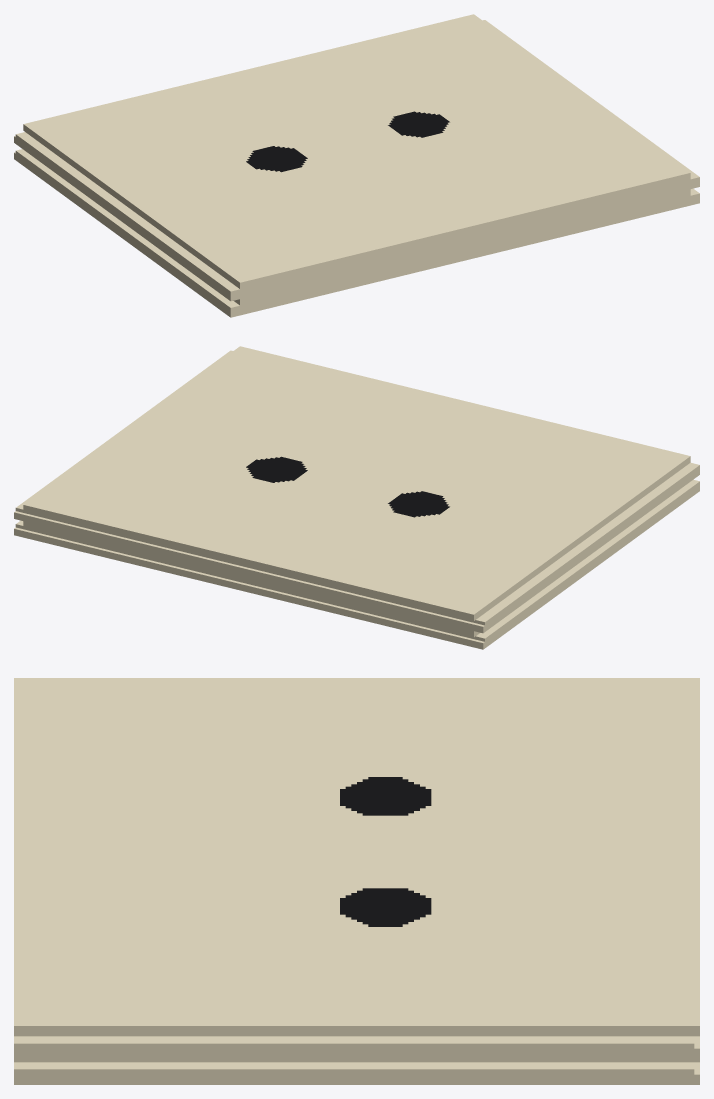
Rendered from ghost_robe_sheet.glb.
The picture shows the model from 3 angles, top to bottom: view 1: azimuth 30°, elevation 25°; view 2: azimuth 150°, elevation 25°; view 3: azimuth 270°, elevation 25°; orthographic projection. The views are drawn at different scales.
Visible parts, largest first — view 1: ghost_robe_sheet:compound; view 2: ghost_robe_sheet:compound; view 3: ghost_robe_sheet:compound.
Boxes of the visible parts, x1=… form: ghost_robe_sheet:compound: x1=14, y1=14, x2=699, y2=317; ghost_robe_sheet:compound: x1=14, y1=346, x2=699, y2=649; ghost_robe_sheet:compound: x1=14, y1=678, x2=699, y2=1084.
Size of the model in its own units: 0.3 by 0.02 by 0.24.
